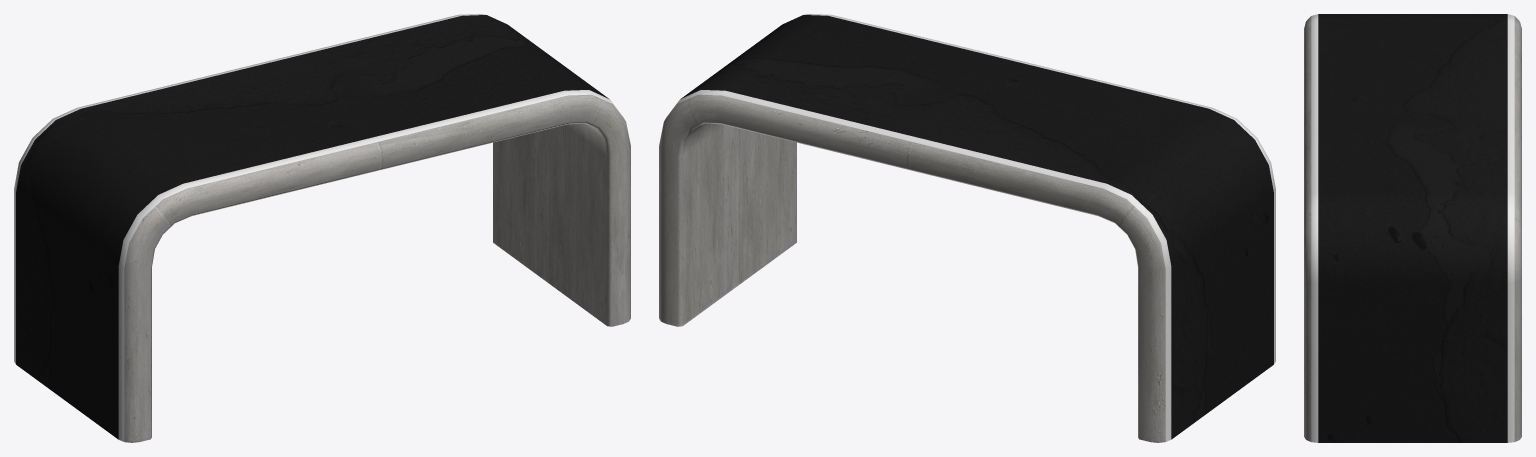
Rendered from Table.fbx.
3 renders of one model, left to right at view 1: azimuth 30°, elevation 25°; view 2: azimuth 150°, elevation 25°; view 3: azimuth 270°, elevation 25°, orthographic. The views are drawn at different scales.
Visible parts, largest first — view 1: Table; view 2: Table; view 3: Table.
Boxes of the visible parts, x1=… form: Table: x1=14, y1=14, x2=630, y2=442; Table: x1=659, y1=14, x2=1275, y2=442; Table: x1=1304, y1=14, x2=1521, y2=442.
Size of the model in its own units: 2.78 by 1.25 by 1.11.
